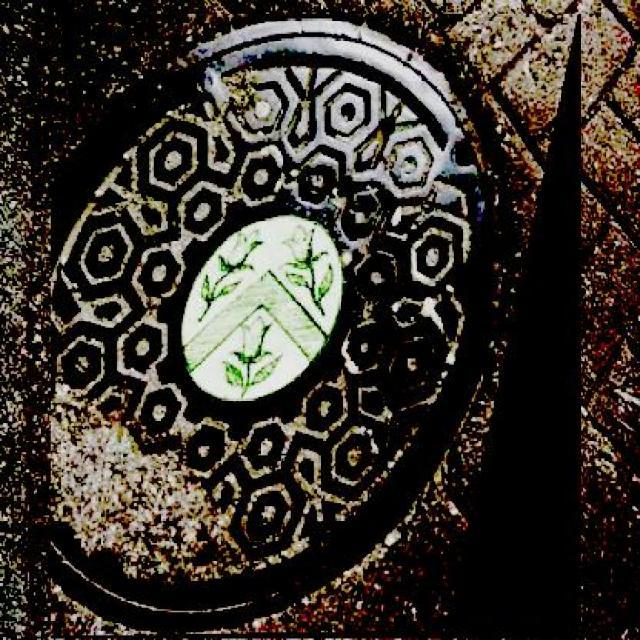Manhole: (51, 14, 580, 638)
